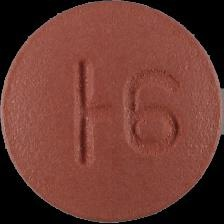31722-526: (0, 0, 224, 224)
